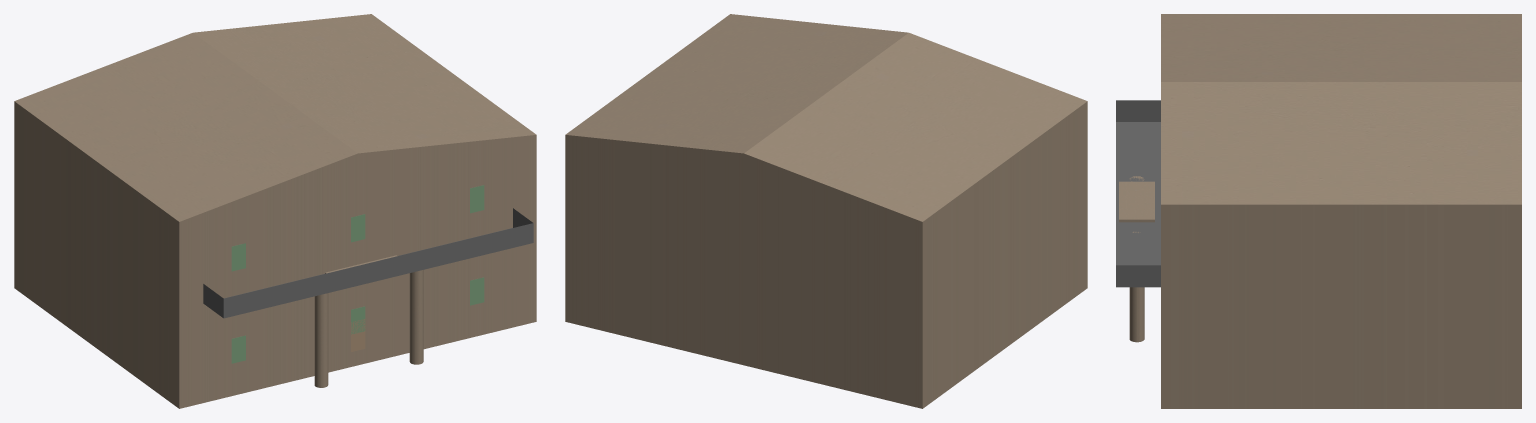
Rendered from villa.glb.
The picture shows the model from 3 angles, left to right: view 1: azimuth 30°, elevation 25°; view 2: azimuth 150°, elevation 25°; view 3: azimuth 270°, elevation 25°; orthographic projection. The views are drawn at different scales.
Parts seen in each view (by area): view 1: VillaMain, VillaBalcony, Cylinder.001, Cylinder; view 2: VillaMain; view 3: VillaMain, VillaBalcony, Cube.006, Cylinder.001.
Part boxes in pixels (bbox=[...]): VillaMain: bbox=[14, 14, 536, 408]; VillaBalcony: bbox=[203, 208, 533, 318]; Cylinder.001: bbox=[409, 270, 423, 364]; Cylinder: bbox=[314, 293, 328, 387]; VillaMain: bbox=[565, 14, 1087, 408]; VillaMain: bbox=[1161, 14, 1521, 408]; VillaBalcony: bbox=[1116, 100, 1160, 287]; Cube.006: bbox=[1119, 181, 1154, 222]; Cylinder.001: bbox=[1129, 231, 1144, 342].
Bounding box in the file's own units: 15 × 8.5 × 13.5.
4 materials, 1 textured.
